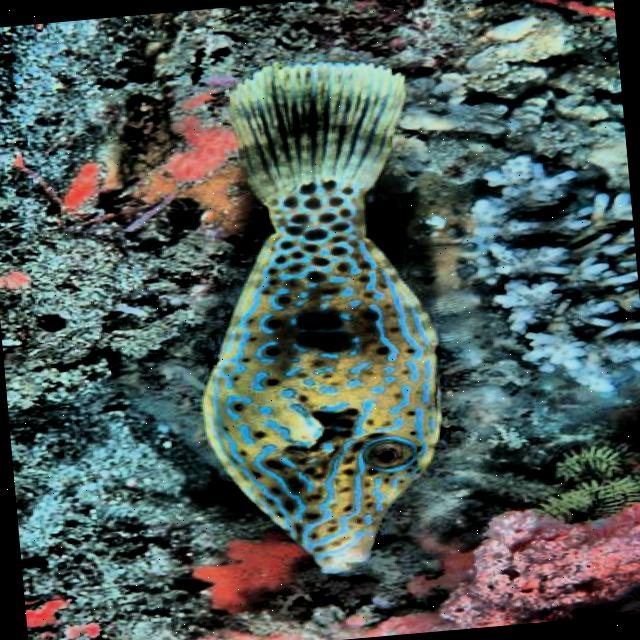fish: (169, 56, 462, 580)
